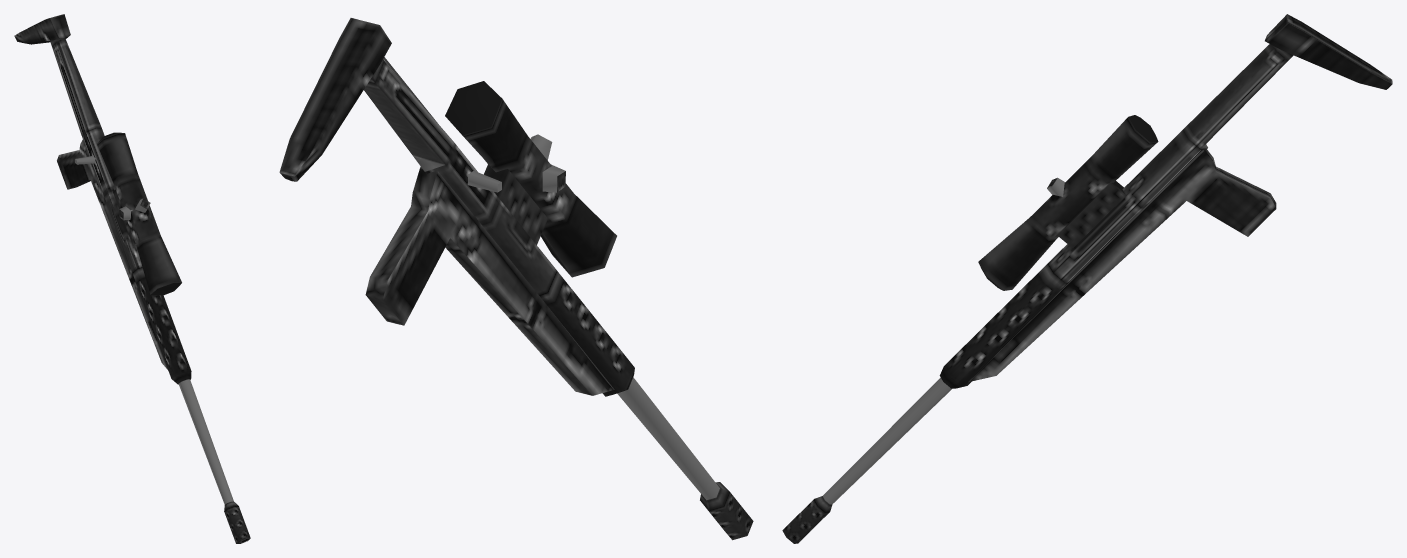
The model's file is p_sniper.glb.
3 views of the same model, side by side, from view 1: azimuth 30°, elevation 25°; view 2: azimuth 150°, elevation 25°; view 3: azimuth 270°, elevation 25° (orthographic). The views are drawn at different scales.
Visible parts, largest first — view 1: p_sniper; view 2: p_sniper; view 3: p_sniper.
Part boxes in pixels (<box>): p_sniper: <box>14,14,250,543</box>; p_sniper: <box>279,18,753,540</box>; p_sniper: <box>782,14,1392,543</box>.
Bounding box in the file's own units: 3 × 30.3 × 31.91.
Materials: 3 (3 with a texture image).
